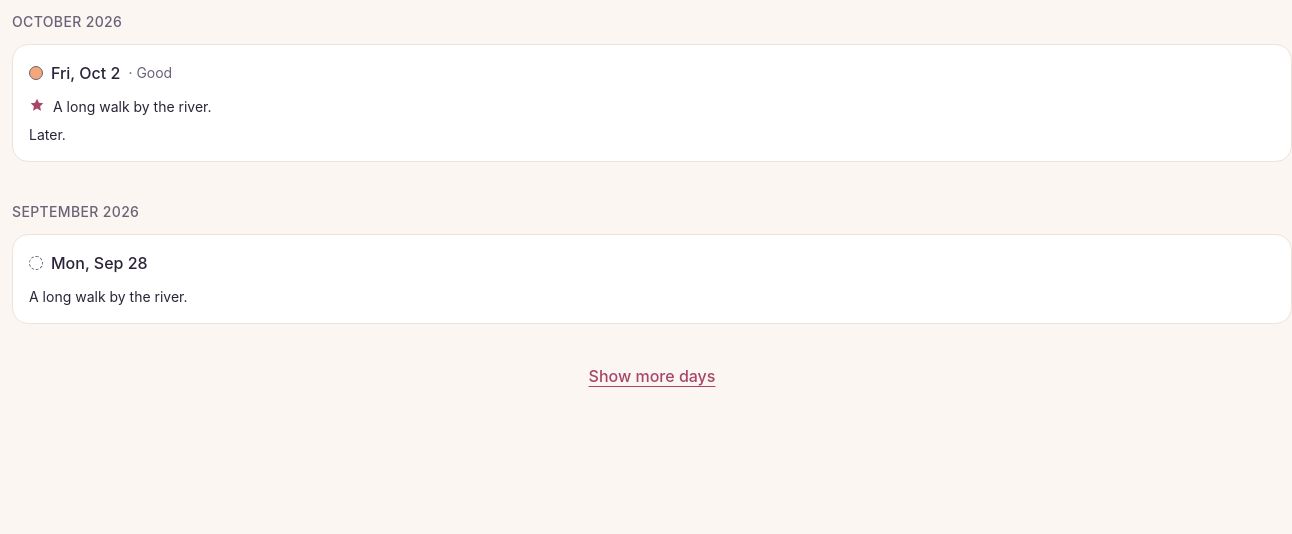
Scenario: TimelineList: more days without scrolling, and said (a11y pass) › 'Show more days' loads the next page; the status says how many new days came (repeats not counted)
This screenshot has width=1292, height=534.
Click the button with test id "timeline-load-more". click: (652, 376)
box: [589,364,716,388]
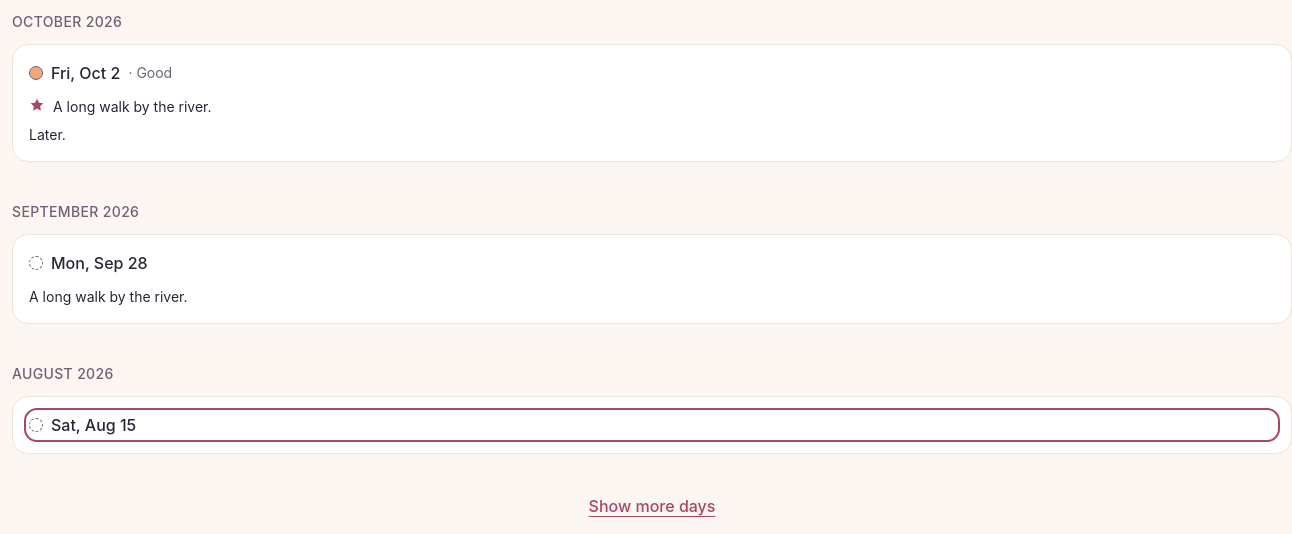
Expected: the link with test id "timeline-day-2026-08-15" is shown, [28,415,185,446]
